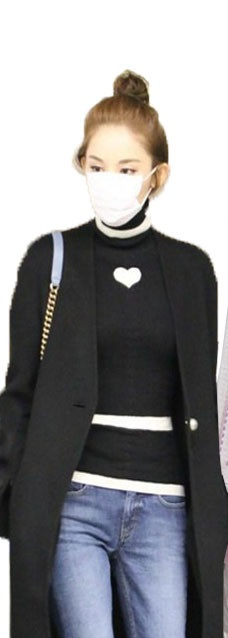face_mask: (86, 134, 151, 225)
